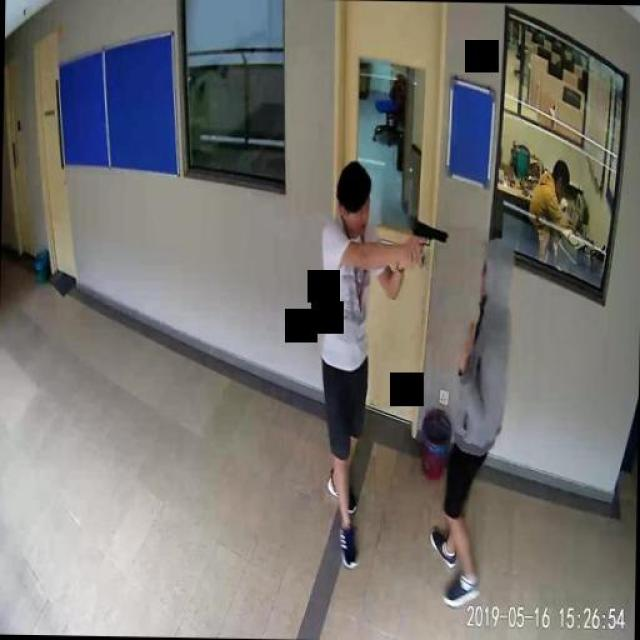gun: (410, 218, 446, 264)
